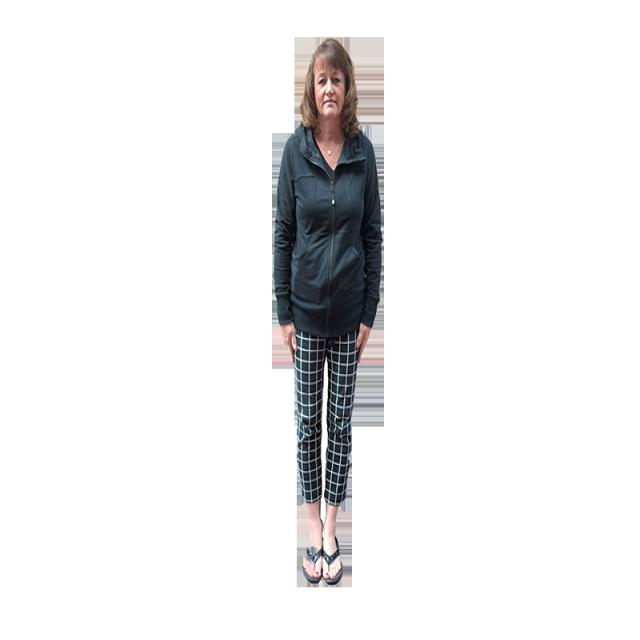jovem: (267, 31, 392, 583)
